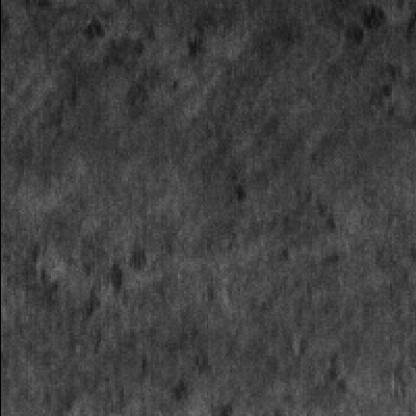rolled-in_scale: (48, 0, 222, 135), (10, 224, 174, 332), (341, 0, 416, 116)
